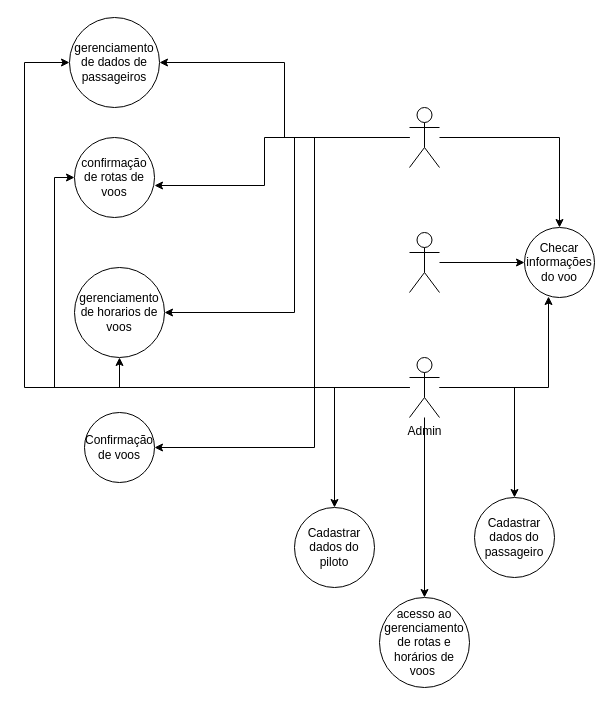
Some shapes in this 612 by 705 pixel diagram are drawn without their labels. Here are the shapes that lost their labels. From the top down, the centre of each, then its label:
At (424,137): "Piloto".
At (424,262): "Passageiro".
